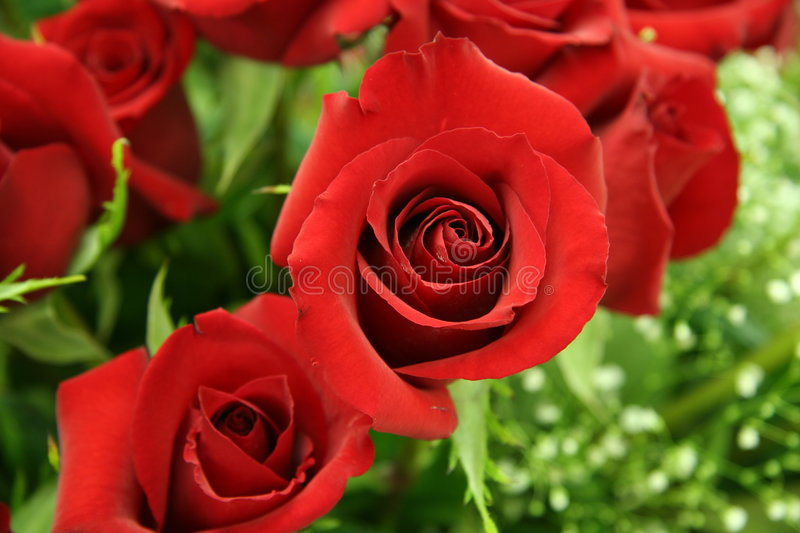RedRose: (274, 27, 632, 439), (37, 303, 395, 533)
